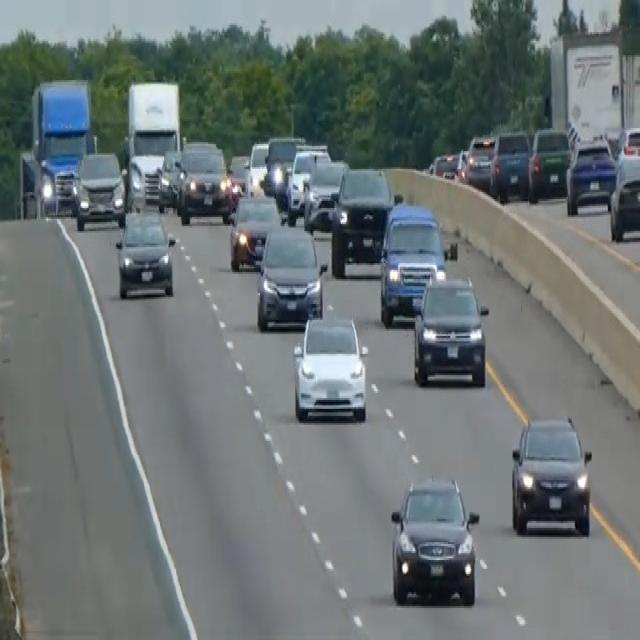car: (389, 473, 479, 606), (509, 412, 593, 537), (378, 201, 455, 327), (411, 272, 489, 388), (292, 309, 368, 423), (255, 222, 326, 329), (330, 164, 395, 278), (114, 208, 176, 299), (176, 142, 231, 224), (72, 149, 126, 231), (565, 133, 617, 215), (228, 190, 280, 272), (285, 142, 331, 222), (302, 158, 349, 231), (528, 124, 570, 201), (489, 128, 531, 201), (608, 151, 639, 242), (263, 134, 304, 196), (38, 153, 79, 215), (127, 151, 164, 206), (464, 132, 496, 190), (17, 148, 43, 218), (157, 148, 182, 210), (247, 139, 269, 190), (227, 153, 251, 197), (432, 150, 459, 180)
lorry: (26, 77, 95, 215), (122, 78, 182, 203)
